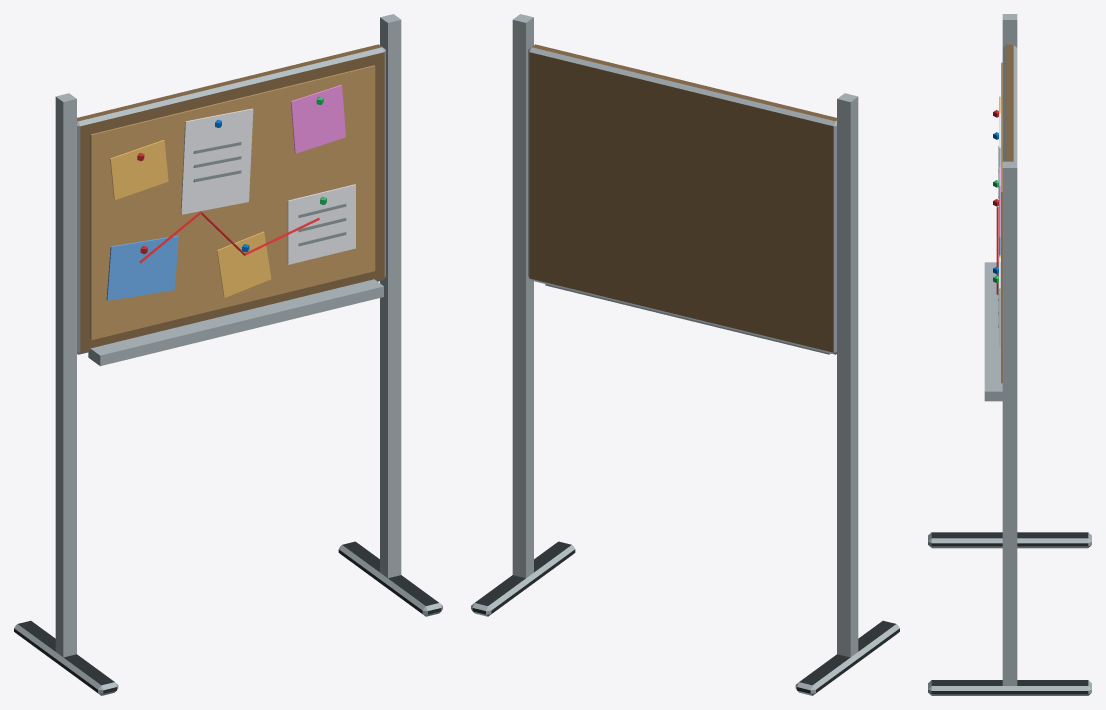
File: pinnwand.glb
The picture shows the model from 3 angles, left to right: view 1: azimuth 30°, elevation 25°; view 2: azimuth 150°, elevation 25°; view 3: azimuth 270°, elevation 25°; orthographic projection. The views are drawn at different scales.
Parts seen in each view (by area): view 1: pinnwand-m; view 2: pinnwand-m; view 3: pinnwand-m.
Part boxes in pixels (<box>): pinnwand-m: <box>14,14,442,695</box>; pinnwand-m: <box>471,14,899,695</box>; pinnwand-m: <box>928,14,1091,695</box>.
Size of the model in its own units: 1.02 by 1.6 by 0.45.
